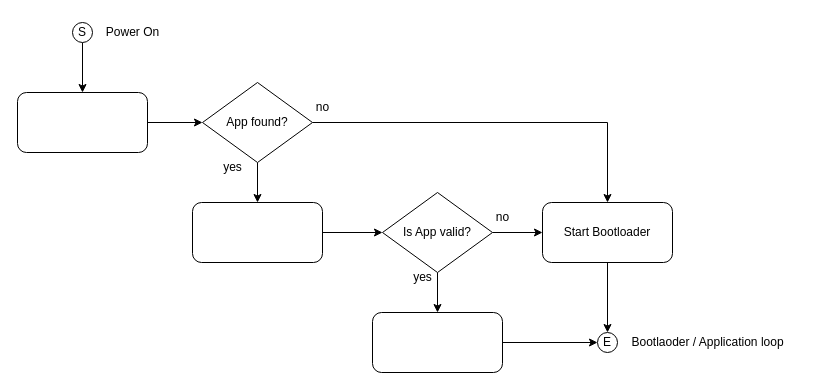
This 815x390 diagram has some shape labels left out. Here are the shapes that lost their labels. From the top down, the box of each, then its label:
(16, 92, 148, 152): Boot Manager Addr: 0x080000000
(192, 202, 322, 262): Validate using SHA256
(372, 312, 502, 372): Jump to App
